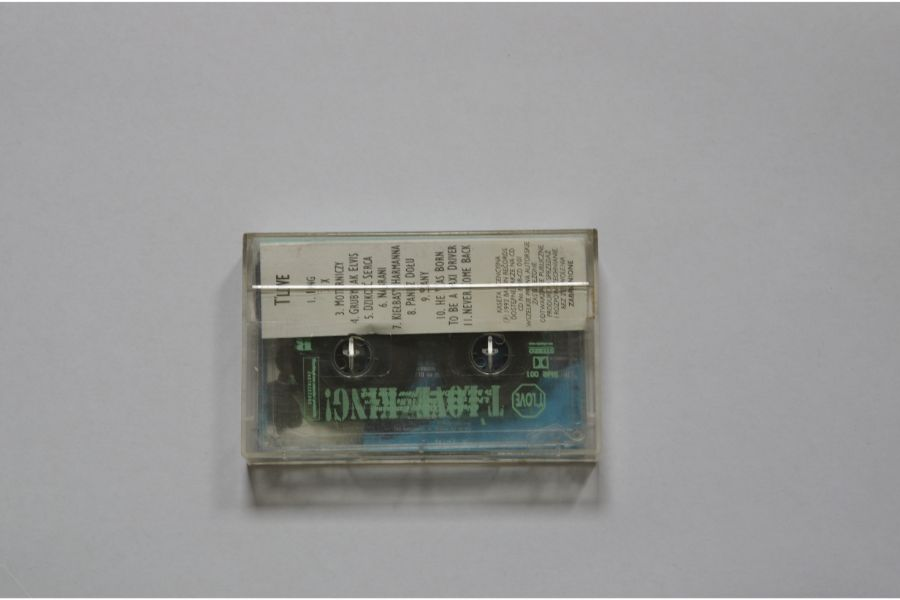album: (239, 229, 604, 467)
